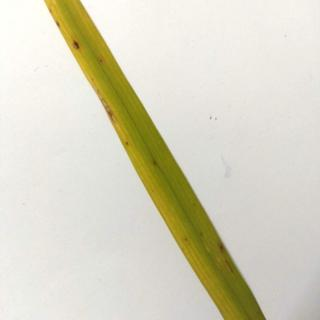bercak-Cokelat: (99, 94, 132, 142), (213, 233, 235, 271), (146, 153, 164, 174), (66, 38, 81, 57)
